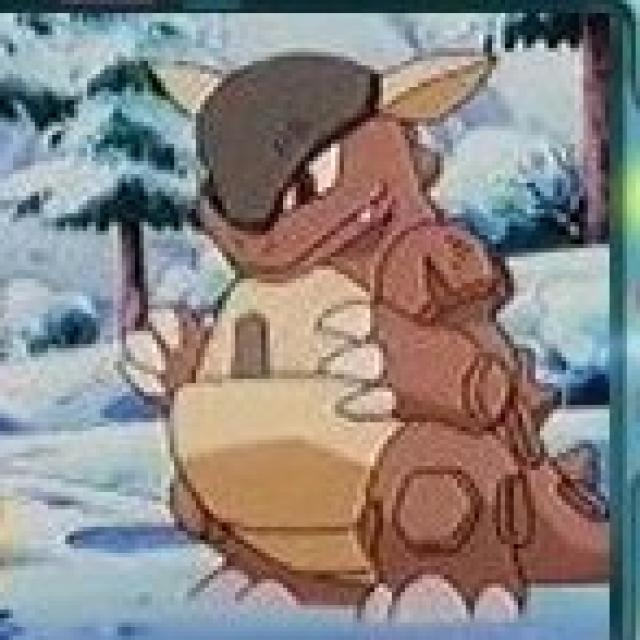Kangaskhan: (152, 57, 538, 604)
